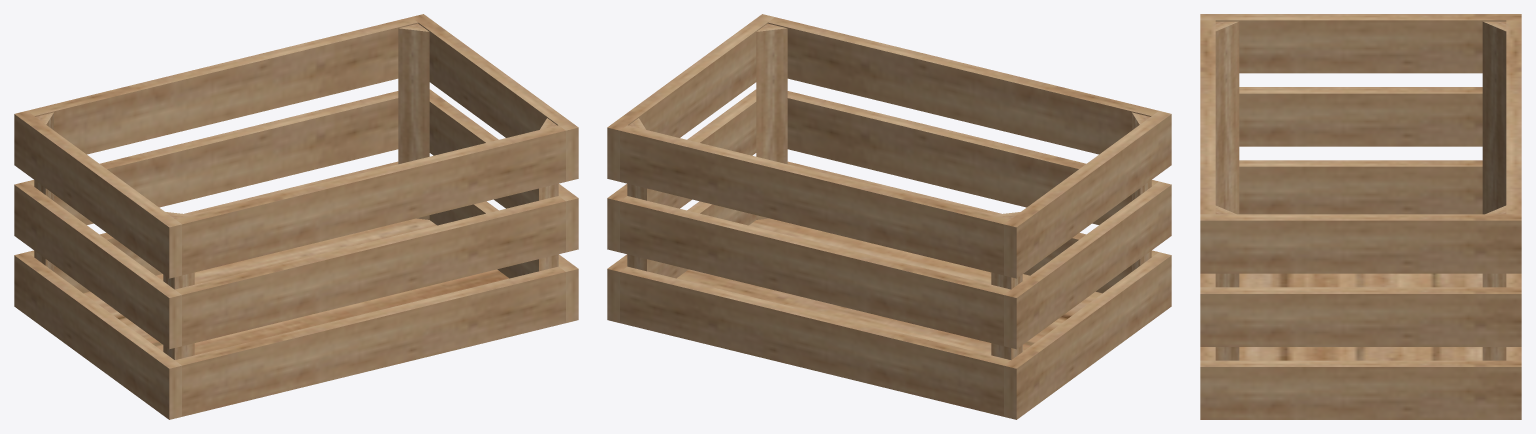
The model's file is small_crate.fbx.
The picture shows the model from 3 angles, left to right: view 1: azimuth 30°, elevation 25°; view 2: azimuth 150°, elevation 25°; view 3: azimuth 270°, elevation 25°; orthographic projection. The views are drawn at different scales.
Visible parts, largest first — view 1: Plane; view 2: Plane; view 3: Plane.
Part boxes in pixels (x1,y1,x2,y2): Plane: [14, 14, 578, 419]; Plane: [607, 14, 1171, 419]; Plane: [1200, 14, 1521, 419].
Bounding box in the file's own units: 32 × 14.38 × 21.
1 material, 1 textured.
